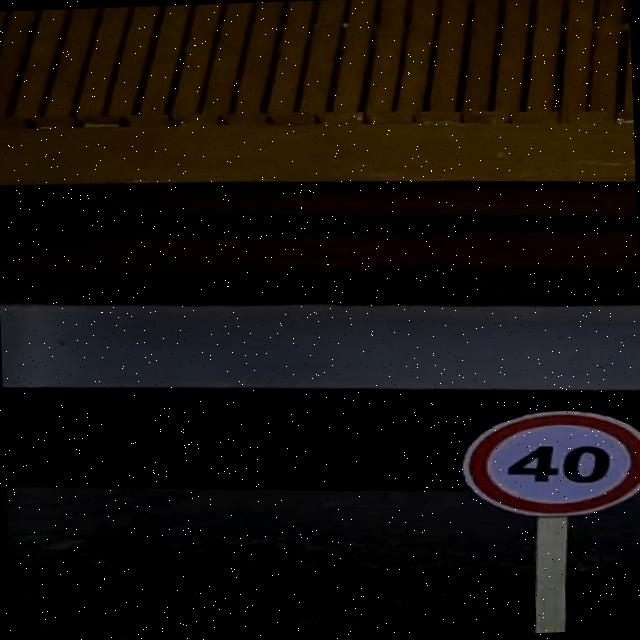Speed40: (458, 404, 640, 522)
